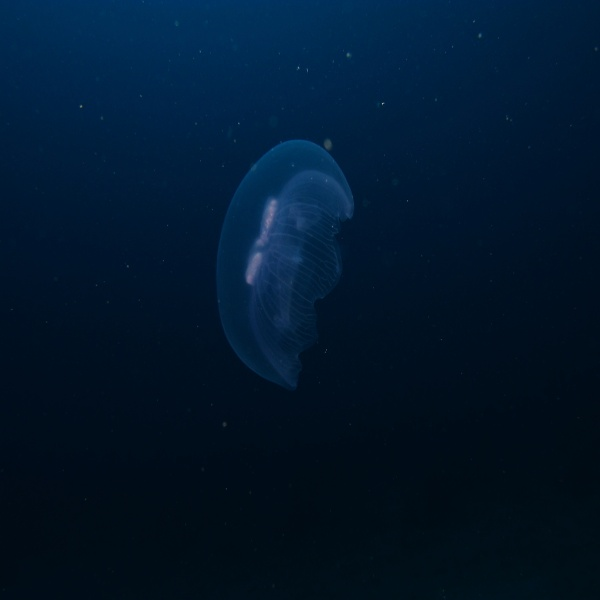Jellyfish: (216, 138, 354, 391)
